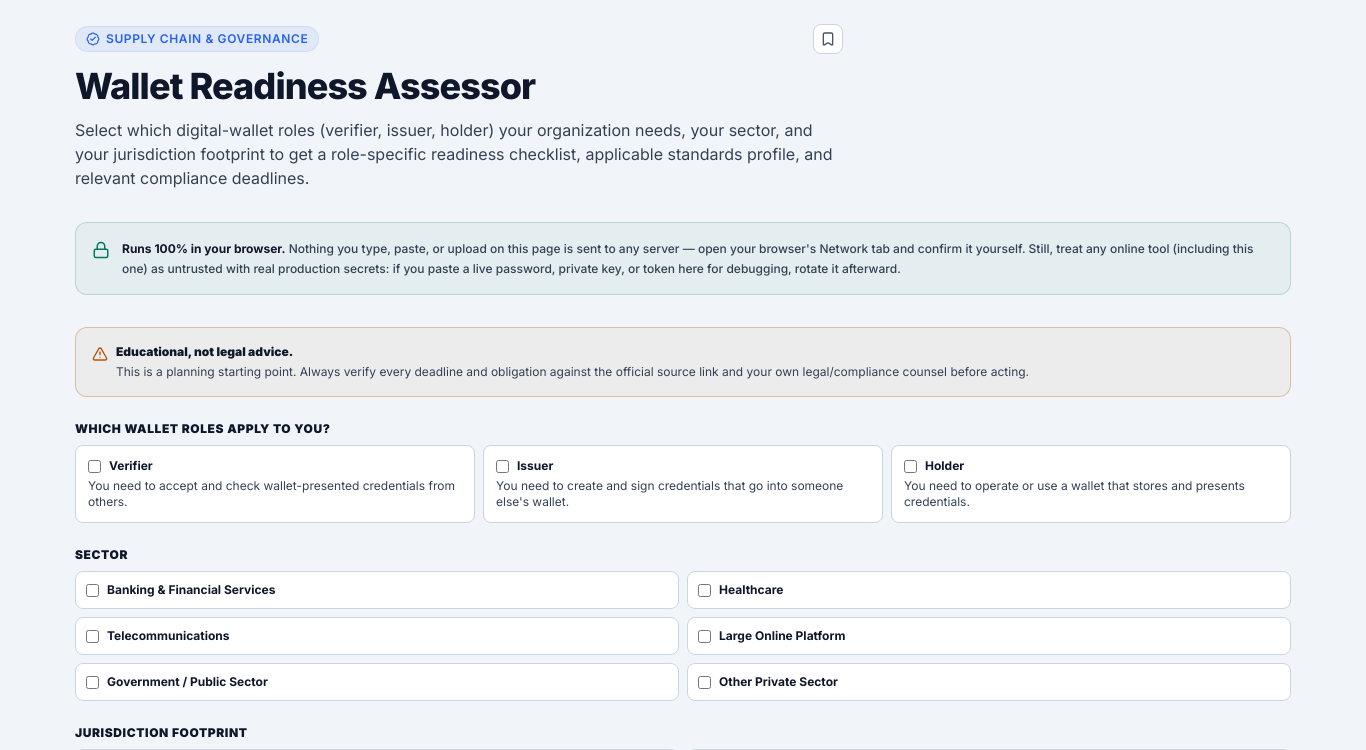
Test case: WalletReadinessAssessor tool page › flags a likely acceptance obligation for verifier + banking + EU
The width and height of the screenshot is (1366, 750).
Click the checkbox labelled "Verifier".
click(94, 466)  # box x1=88 y1=460 x2=101 y2=472
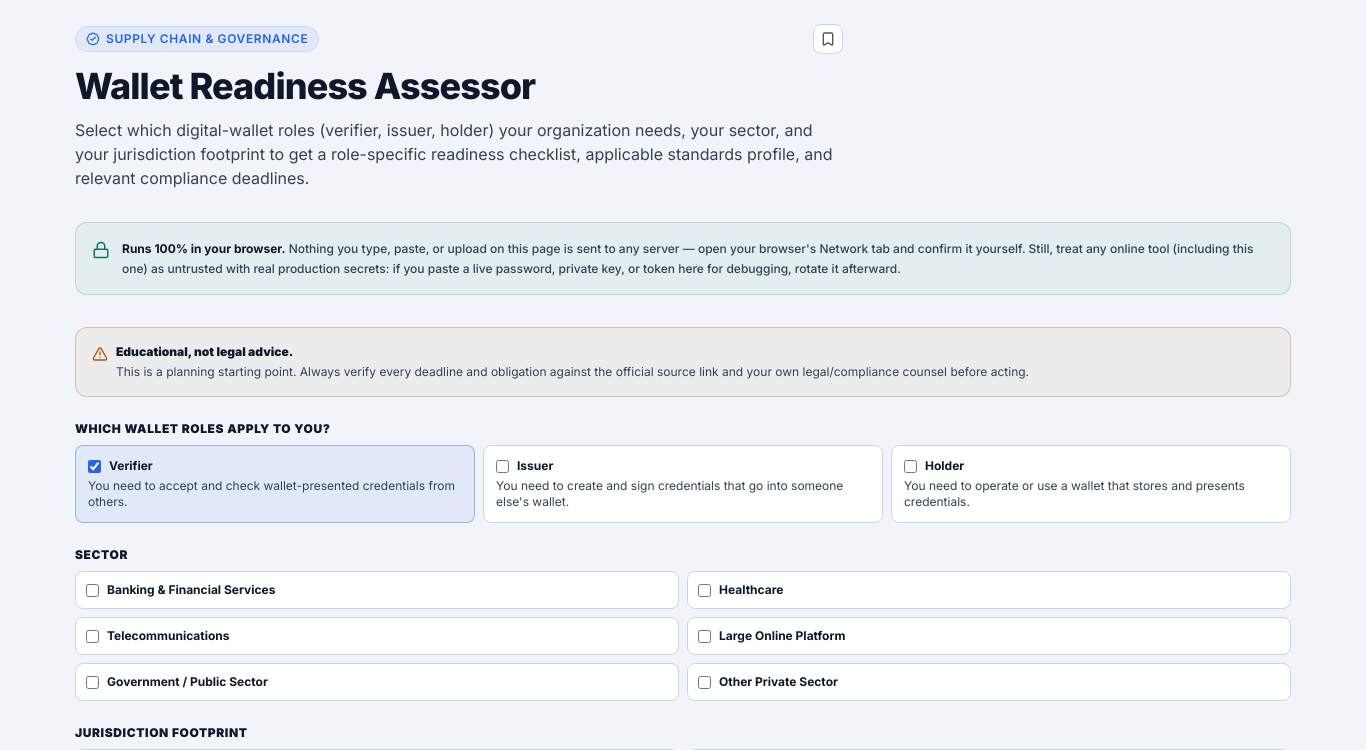
Click the checkbox labelled "Banking & Financial Services".
click(92, 590)  # box x1=86 y1=584 x2=99 y2=596
(page scrolled)
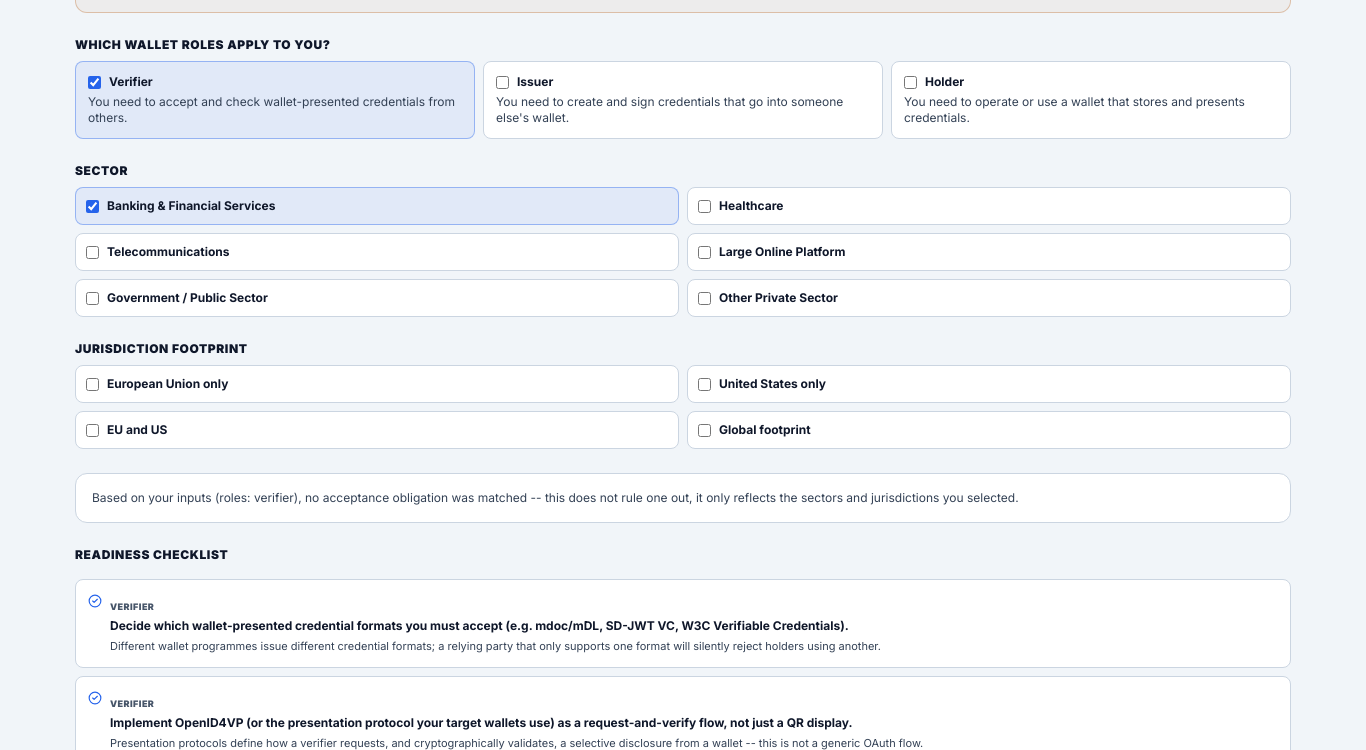
Click the checkbox labelled "European Union only".
click(92, 384)  # box x1=86 y1=378 x2=99 y2=390
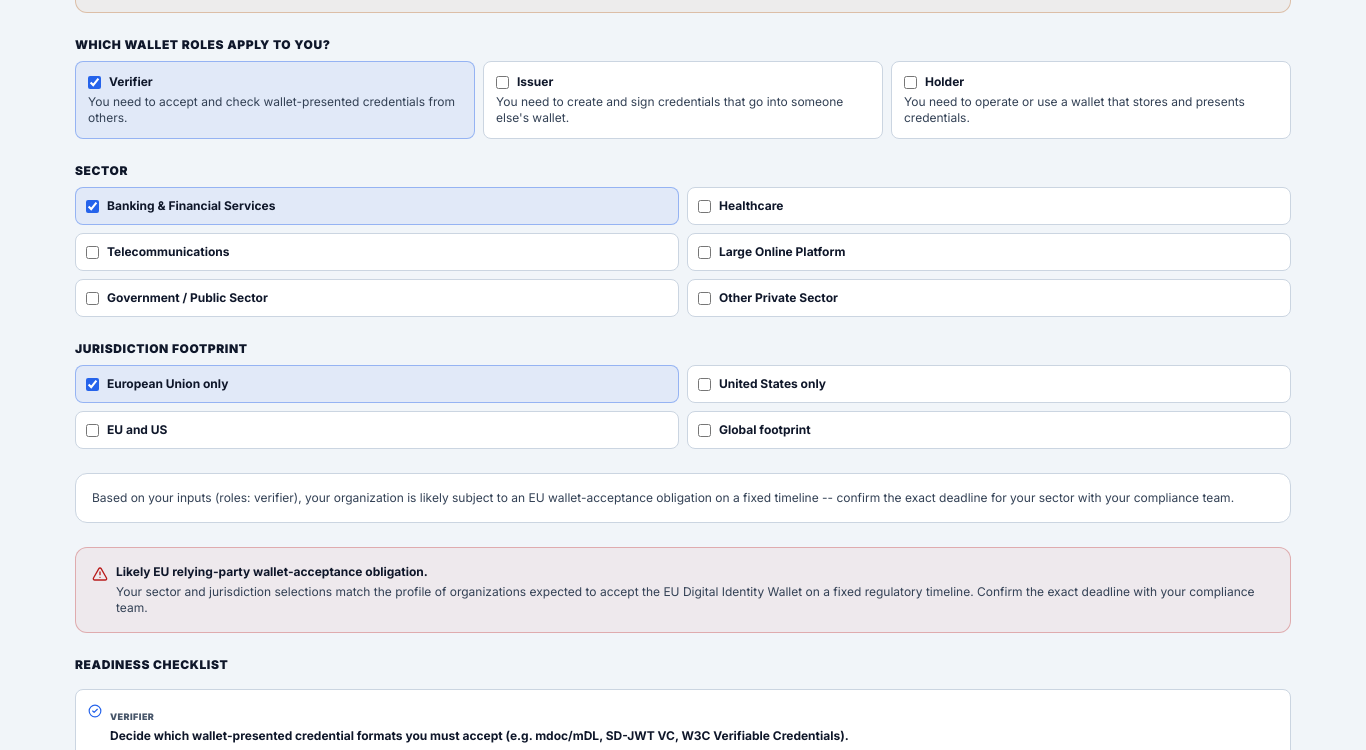
Expected: the text "Likely EU relying-party wallet-acceptance obligation." is shown, x1=116 y1=564 x2=428 y2=579
